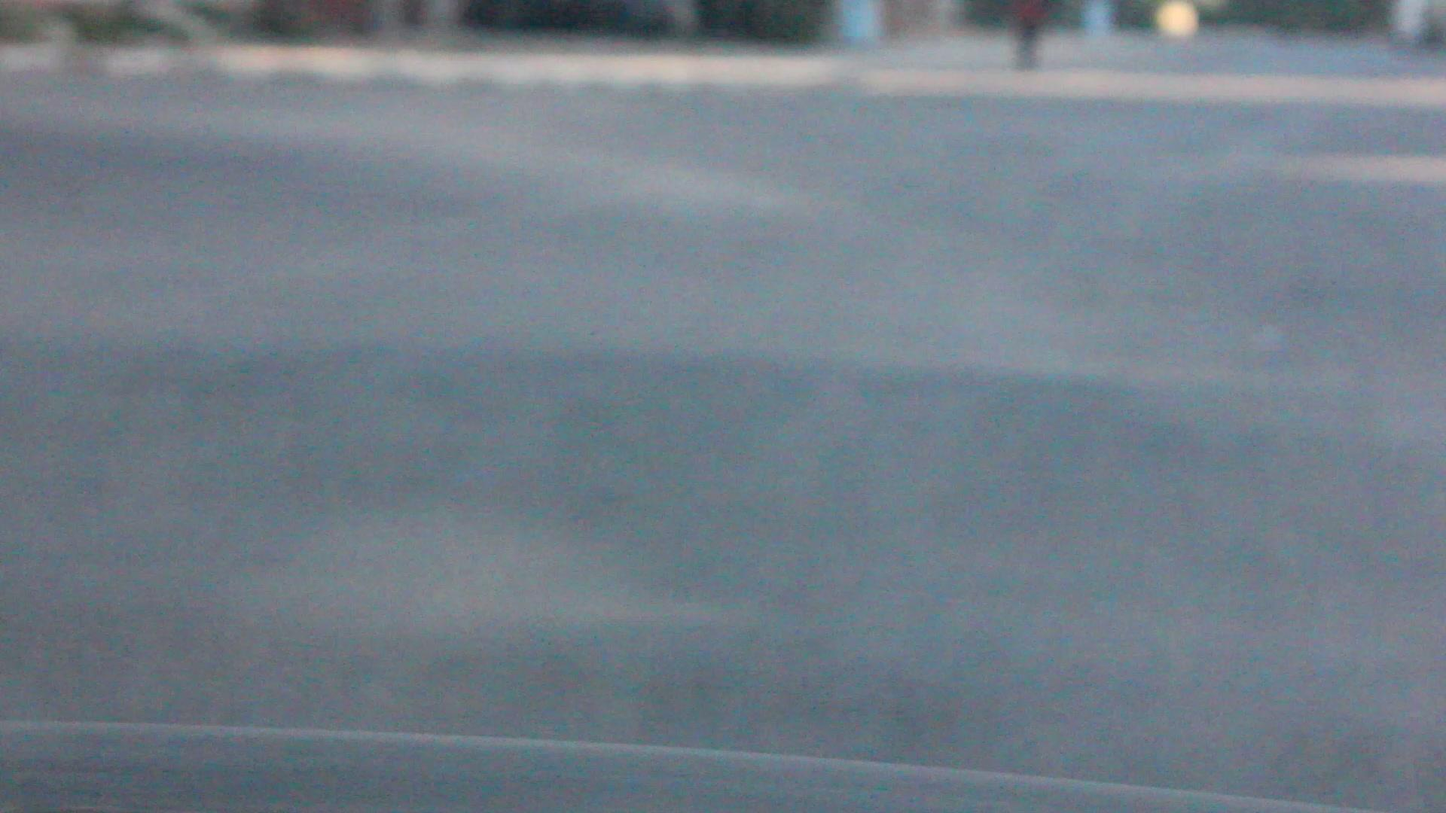Bump: (0, 297, 1437, 501)
